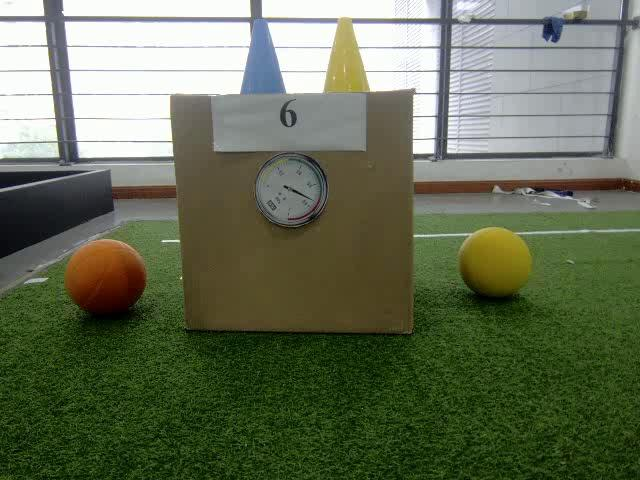6: (278, 99, 300, 129)
Dashboard: (254, 152, 329, 228)
blue_barrel: (237, 18, 286, 95)
orange_ball: (65, 238, 145, 314)
ssi: (266, 198, 278, 214)
yellow_ball: (459, 227, 534, 299)
yellow_barrel: (321, 17, 370, 92)
